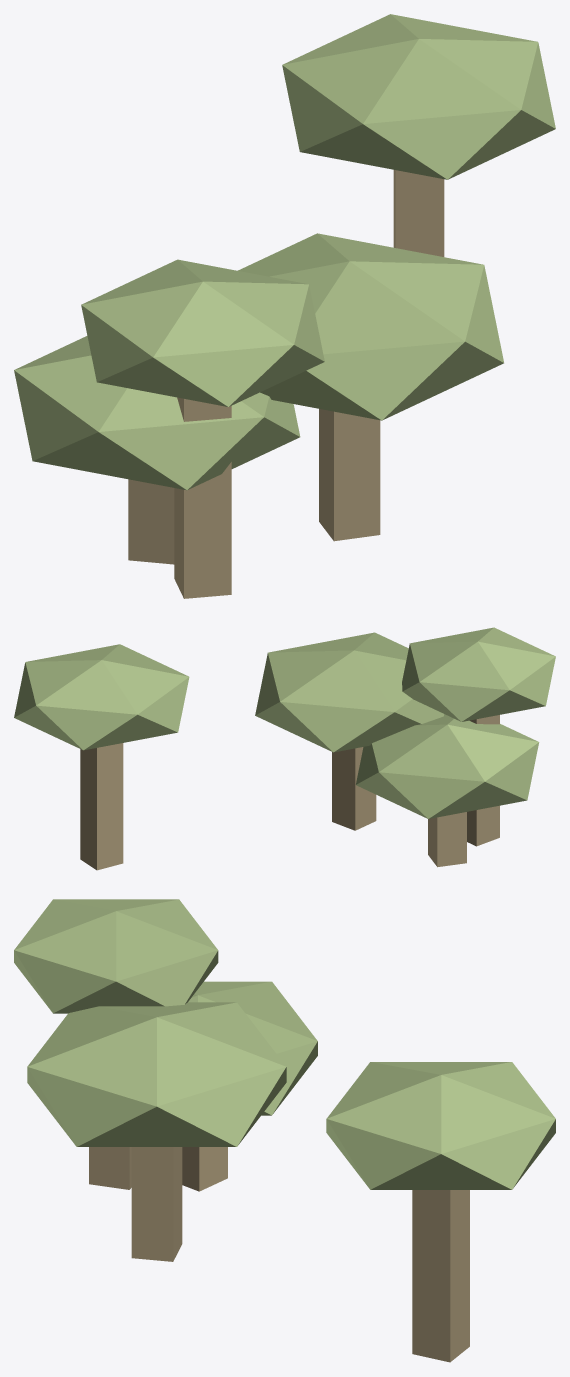
The model's file is glow-fungus.glb.
3 views of the same model, one above another, from view 1: azimuth 30°, elevation 25°; view 2: azimuth 150°, elevation 25°; view 3: azimuth 270°, elevation 25° (orthographic). The views are drawn at different scales.
Parts seen in each view (by area): view 1: glow-fungus; view 2: glow-fungus; view 3: glow-fungus.
Part boxes in pixels (box(x1,y1,x2,y2)): glow-fungus: box(14, 14, 555, 598); glow-fungus: box(14, 627, 555, 870); glow-fungus: box(14, 899, 555, 1362).
Bounding box in the file's own units: 0.2594 × 0.1208 × 0.2155.
